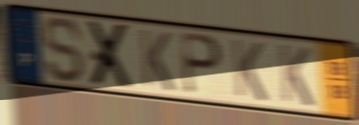K: (137, 26, 177, 95), (229, 37, 269, 105), (276, 42, 316, 110)
P: (179, 30, 225, 98)
S: (41, 15, 87, 85)
X: (86, 19, 136, 91)
